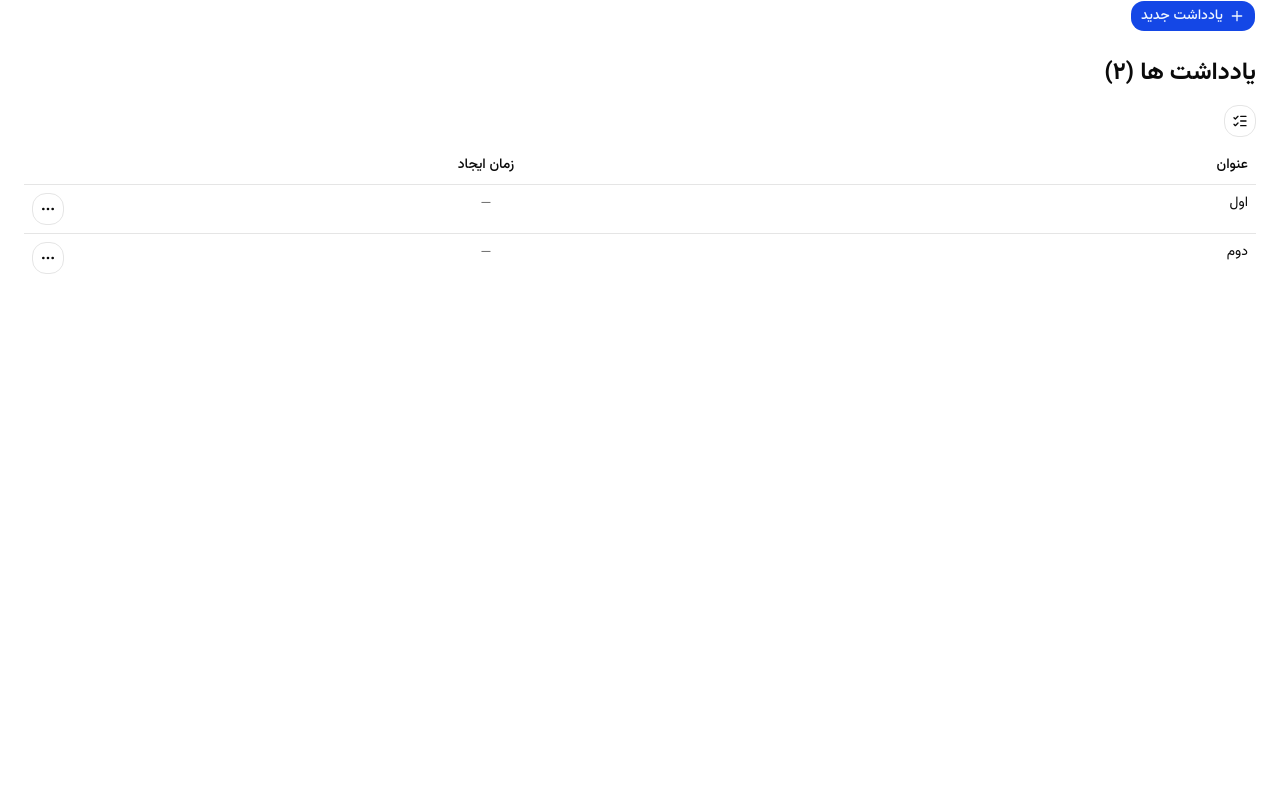
NotesPage deleting selected notes › opens the confirmation with the delete shortcut
Click the button named "حالت انتخاب برای یادداشت ها". click: [1240, 121]
box: [1224, 105, 1256, 137]
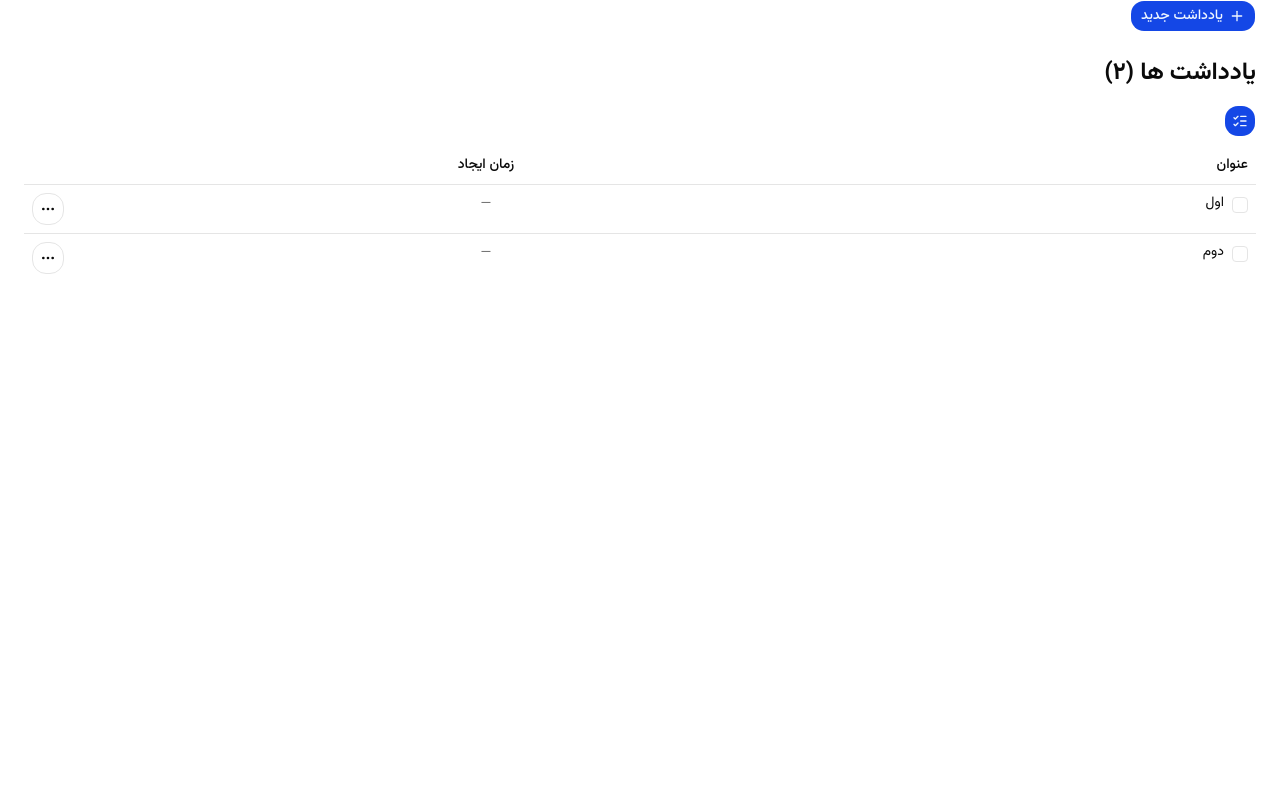
Click the button "اول". click: [1215, 203]
box: [640, 193, 1224, 213]
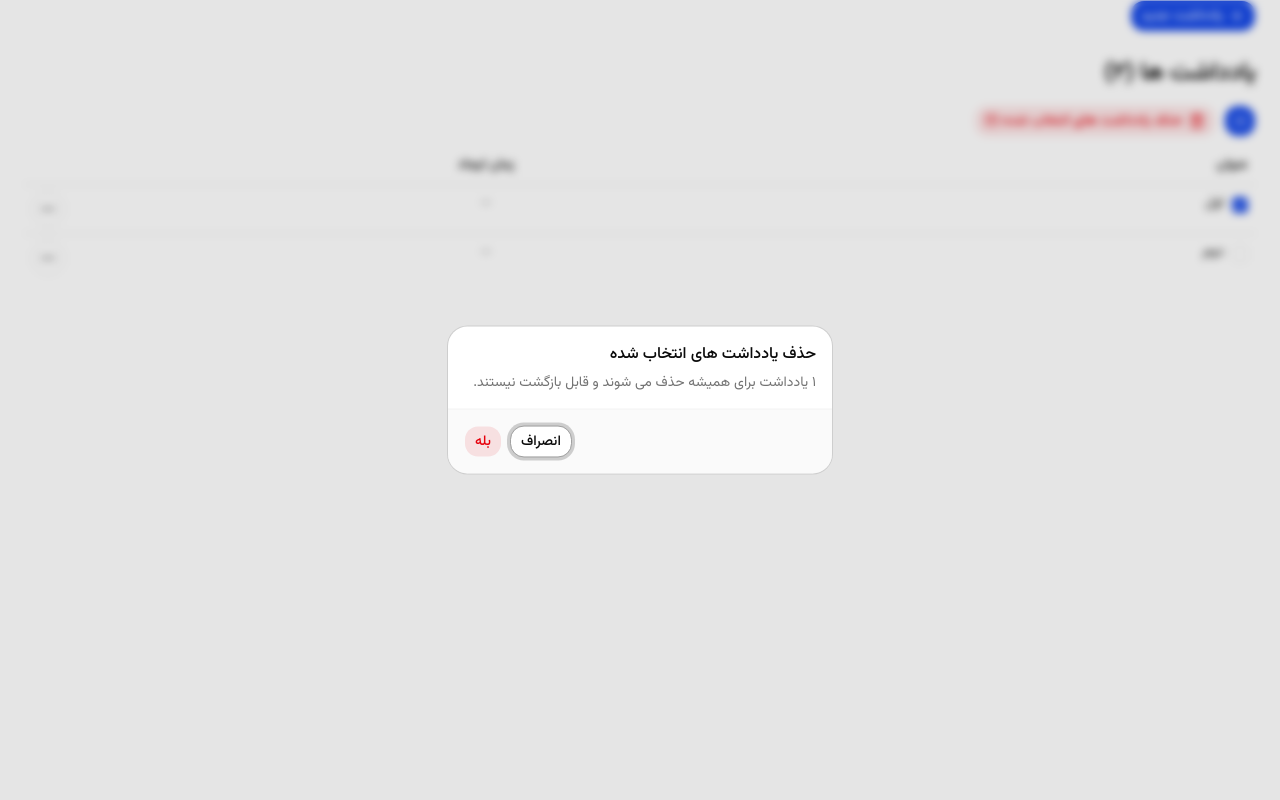
Expected: the text "۱ یادداشت برای همیشه حذف می شوند و قابل بازگشت نیستند." is shown, [473, 372, 816, 392]
